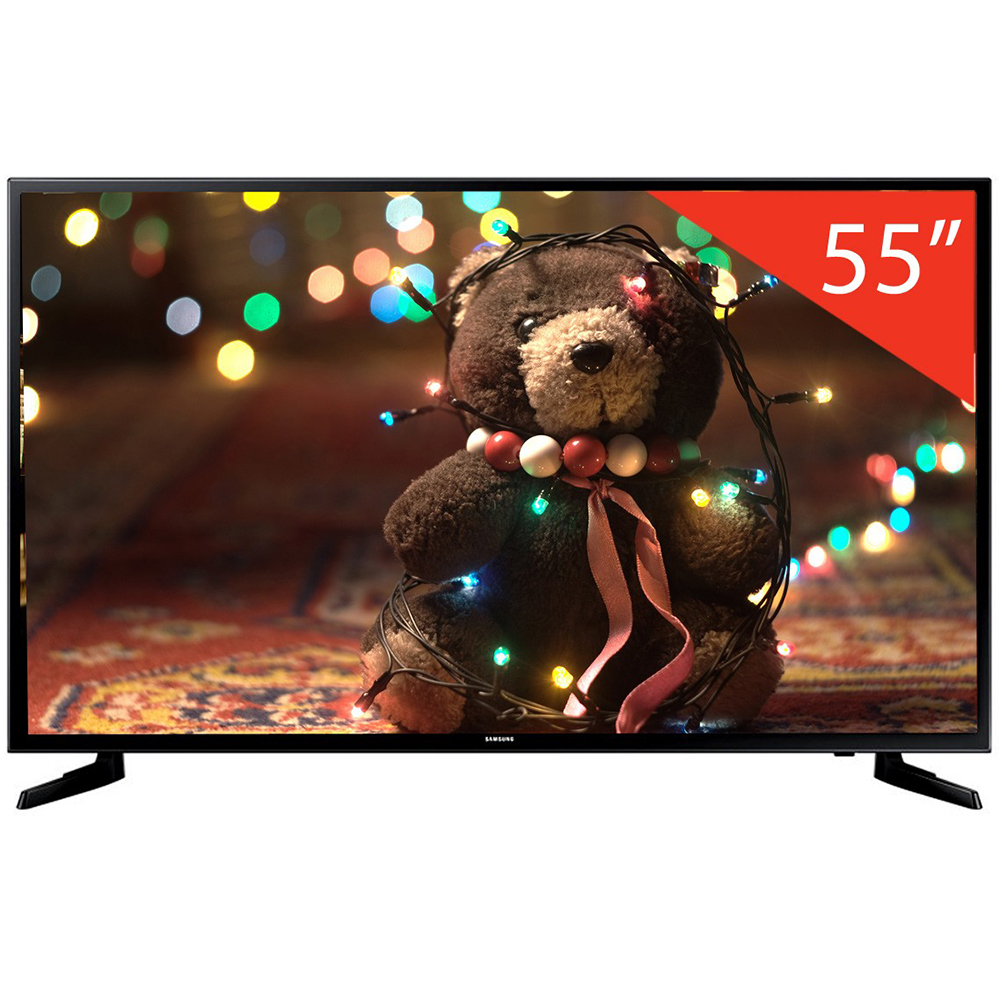SAMSUNG: (415, 683, 632, 847)
